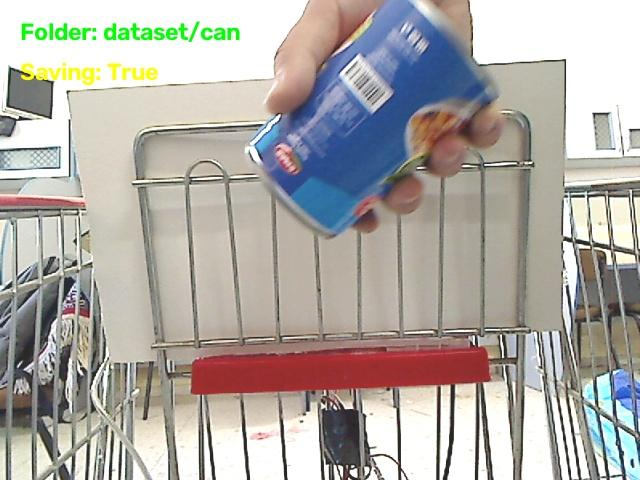can: (246, 0, 497, 235)
